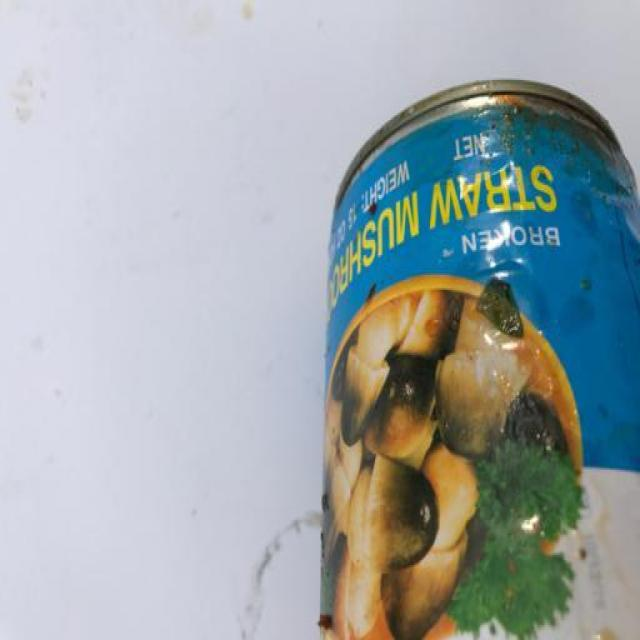metel: (311, 54, 640, 640)
